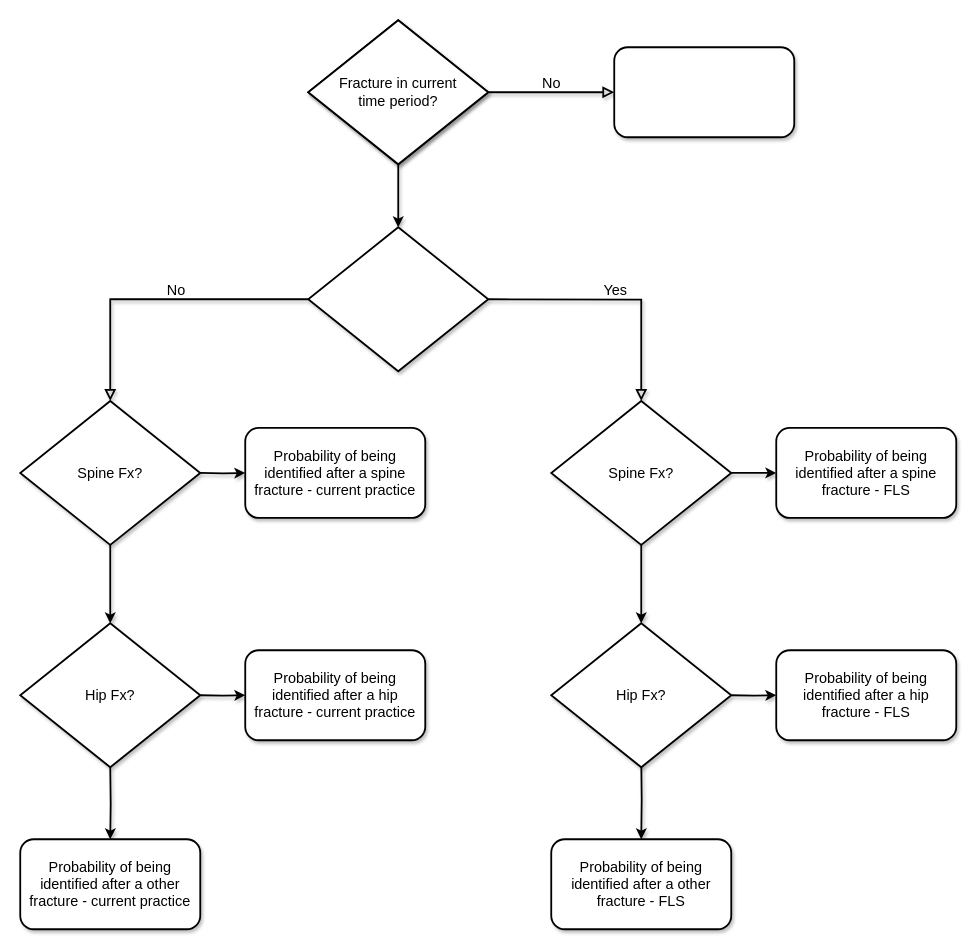
Image size: 977x951. Some labels were removed from this diagram. Here are the shapes that lost their labels. From the top down, the centre of each, then its label:
At point 704,93: "N/A".
At point 398,300: "FLS?".
